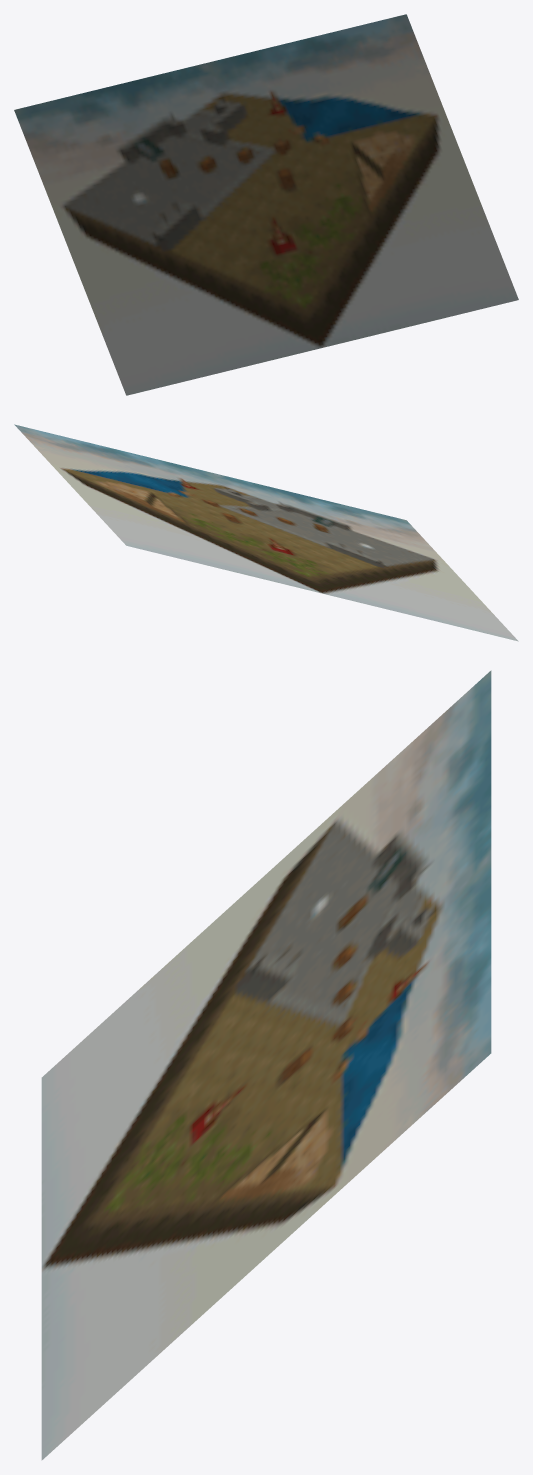
3 renders of one model, top to bottom at view 1: azimuth 30°, elevation 25°; view 2: azimuth 150°, elevation 25°; view 3: azimuth 270°, elevation 25°, orthographic. The views are drawn at different scales.
Visible parts, largest first — view 1: Joint_0_Object_0; view 2: Joint_0_Object_0; view 3: Joint_0_Object_0.
Part boxes in pixels (x1=…): Joint_0_Object_0: x1=14, y1=14, x2=518, y2=395; Joint_0_Object_0: x1=14, y1=424, x2=518, y2=641; Joint_0_Object_0: x1=41, y1=670, x2=491, y2=1460.
Size of the model in its own units: 241 by 120 by 120.
Materials: 1 (1 with a texture image).
